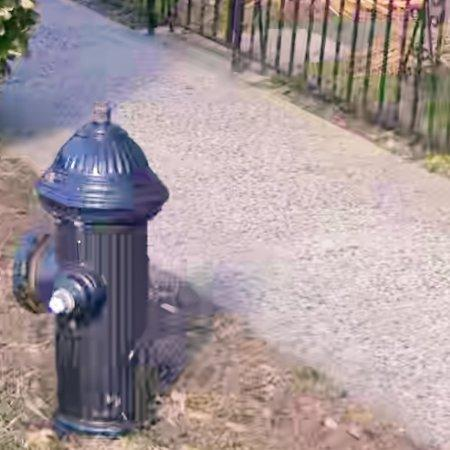a fire hydrant: (13, 103, 169, 436)
